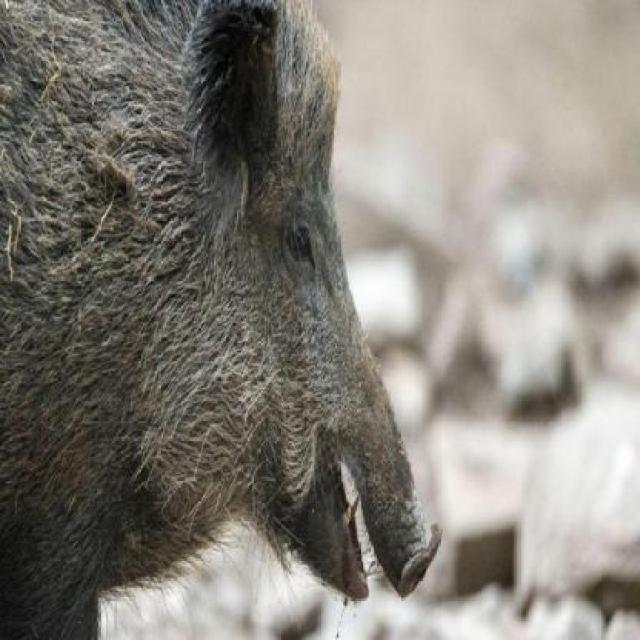wildboar: (0, 0, 448, 640)
